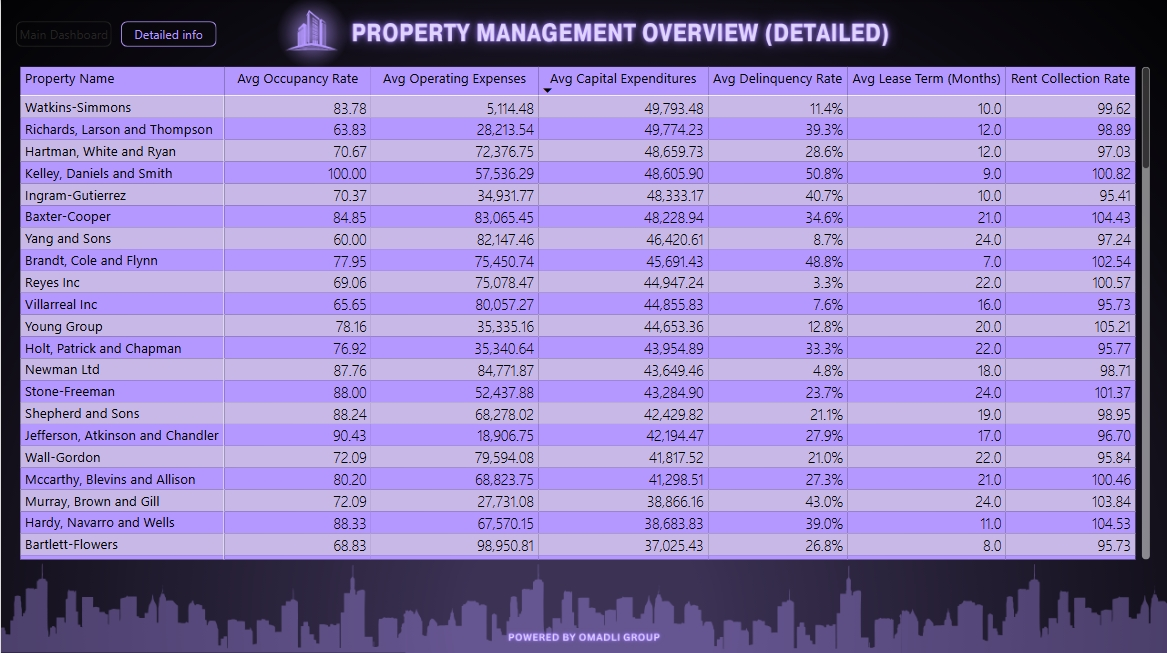

This screenshot's page, from the dashboard's own definition file:
{"tool":"powerbi","page":{"name":"Detailed info ","canvas":[1280,720],"ordinal":1},"visuals":[{"type":"pivotTable","fields":{"Rows":["technical_property_data_extended.Property_Name"],"Values":["Avg(realistic_property_management_data.Occupancy_Rate)","Avg(technical_property_data_extended.OpEx_This_Year)","Avg(technical_property_data_extended.CapEx_This_Year)","technical_property_data_extended.Delinquency_Rate_Percentage","Avg(technical_property_data_extended.Avg_Lease_Term_Months)","technical_property_data_extended.Rent Collection Rate"]},"box":[16.5,68.6,1250.1,550.3],"z":0},{"type":"pageNavigator","box":[16.5,23.3,220.9,28.8],"z":1}]}

Visuals, with their boxes in screenshot pixels (x1, y1, x2, y2):
pivotTable - technical_property_data_extended.Property_Name x Avg(realistic_property_management_data.Occupancy_Rate): (18,64,1137,557)
pageNavigator: (18,24,216,50)
